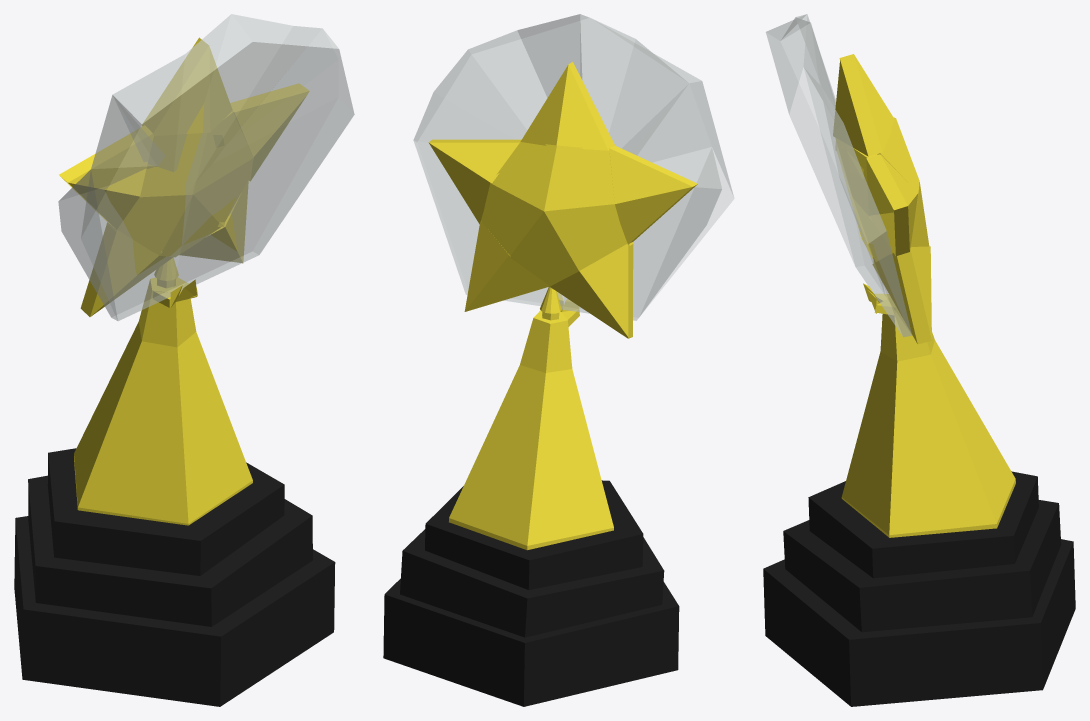
File: Trophy.glb
3 views of the same model, side by side, from view 1: azimuth 30°, elevation 25°; view 2: azimuth 150°, elevation 25°; view 3: azimuth 270°, elevation 25° (orthographic). The views are drawn at different scales.
Visible parts, largest first — view 1: group481495382; view 2: group481495382; view 3: group481495382.
Boxes of the visible parts, box(x1,y1,x2,y2) form: group481495382: box(14, 14, 354, 706); group481495382: box(383, 14, 734, 706); group481495382: box(763, 14, 1075, 706).
Size of the model in its own units: 0.2114 by 0.4211 by 0.1895.
